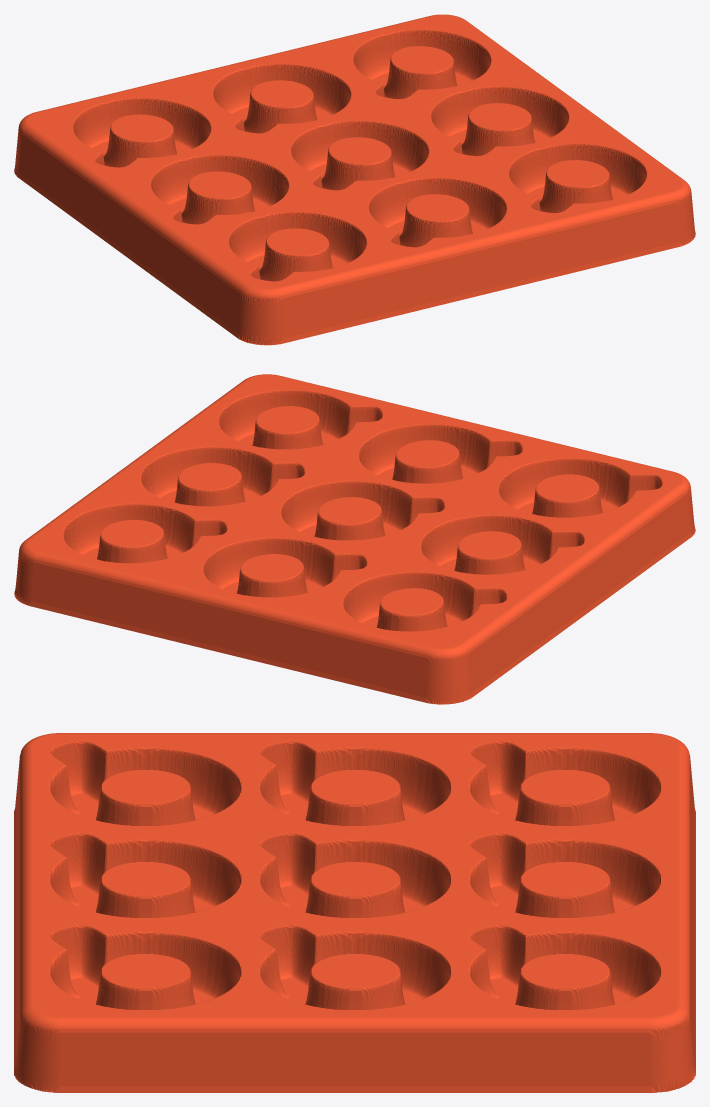
File: mold.glb
The picture shows the model from 3 angles, top to bottom: view 1: azimuth 30°, elevation 25°; view 2: azimuth 150°, elevation 25°; view 3: azimuth 270°, elevation 25°; orthographic projection. The views are drawn at different scales.
Parts seen in each view (by area): view 1: geometry_0; view 2: geometry_0; view 3: geometry_0.
Boxes of the visible parts, <box> form: geometry_0: <box>14,14,695,345</box>; geometry_0: <box>14,374,695,704</box>; geometry_0: <box>14,733,695,1092</box>.
Bounding box in the file's own units: 0.1365 × 0.0145 × 0.1317.
